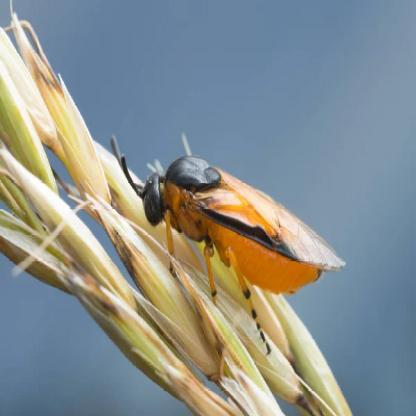sawfly: (112, 150, 346, 348)
